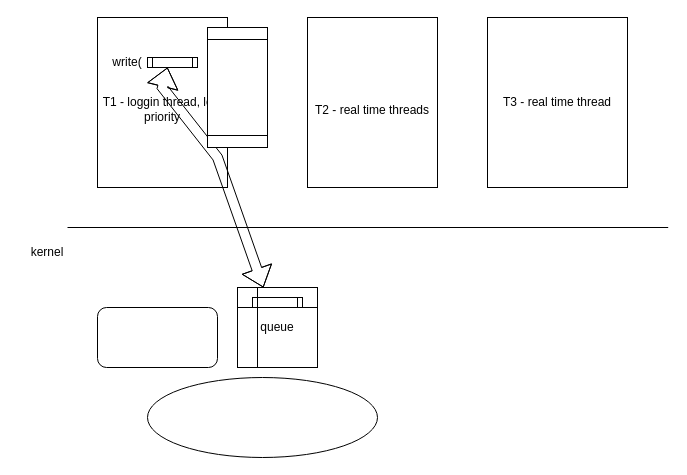
This 687x475 diagram has some shape labels left out. Here are the shapes that lost their labels. From the top down, the box of each, then its label:
(206, 26, 268, 148): msg queue
(96, 306, 218, 368): DD
